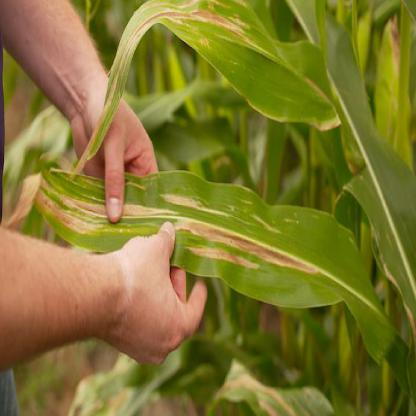Corn leaf blight: (29, 160, 392, 279), (91, 1, 327, 145)
